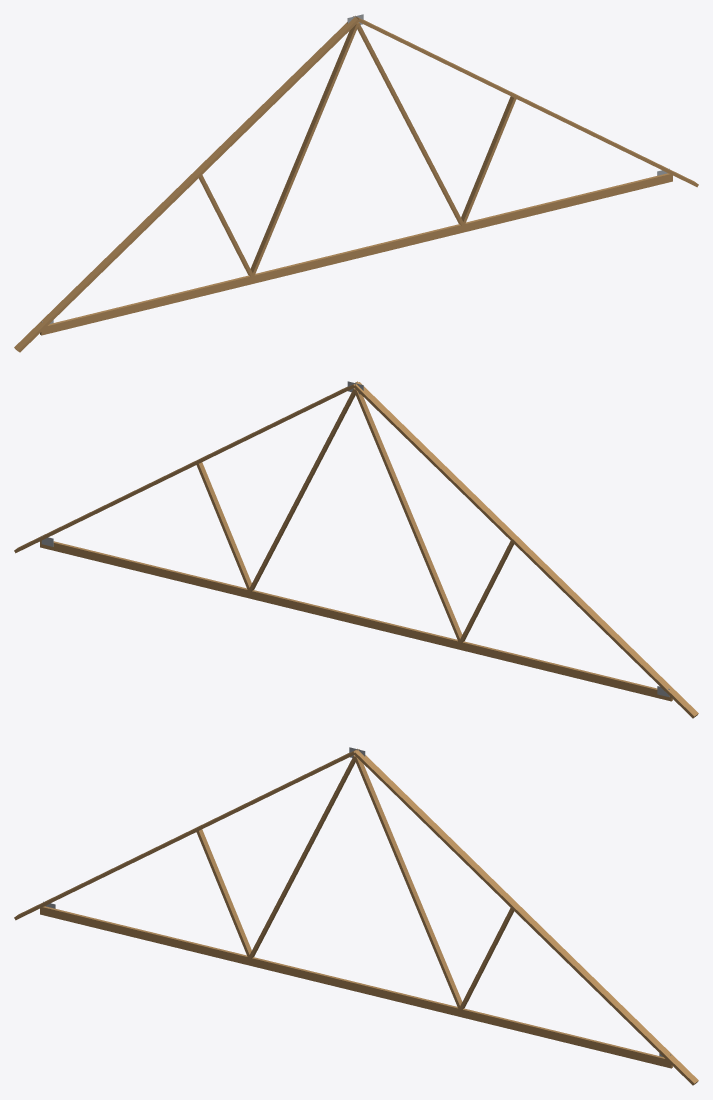
Rendered from structure.truss.fink_8.glb.
3 renders of one model, top to bottom at view 1: azimuth 30°, elevation 25°; view 2: azimuth 150°, elevation 25°; view 3: azimuth 330°, elevation 25°, orthographic.
Parts seen in each view (by area): view 1: truss__softwood; view 2: truss__softwood; view 3: truss__softwood.
Boxes of the visible parts, x1=… form: truss__softwood: x1=14, y1=15, x2=698, y2=352; truss__softwood: x1=14, y1=381, x2=698, y2=718; truss__softwood: x1=14, y1=748, x2=698, y2=1085.
Bounding box in the file's own units: 8.62 × 3.05 × 0.097.
